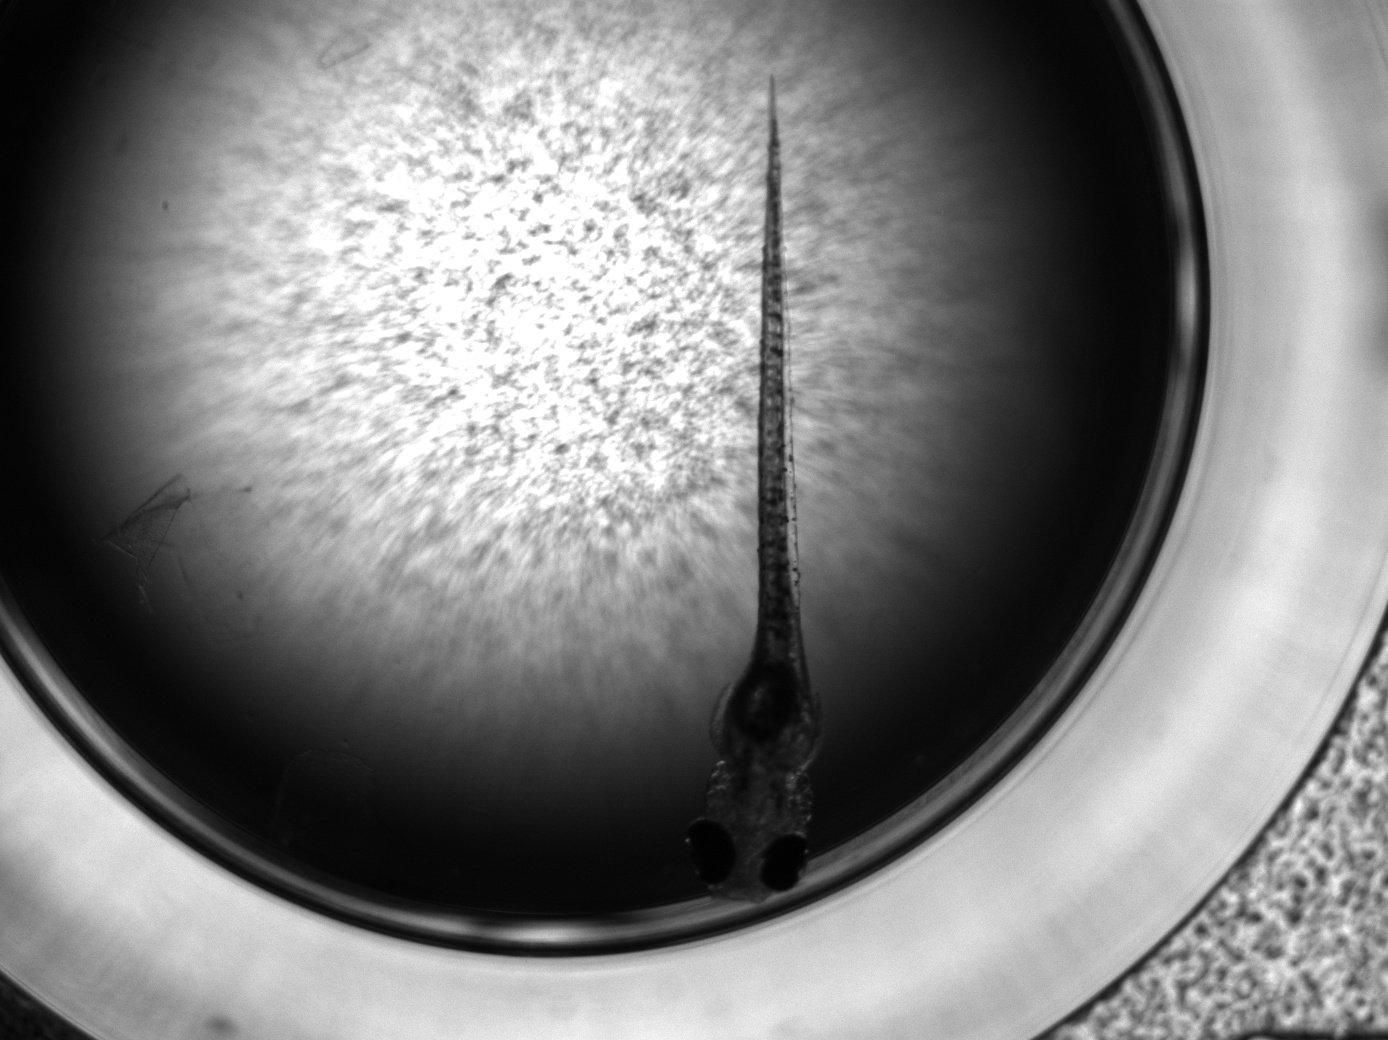embryo: (683, 72, 826, 906)
eye: (683, 819, 735, 888), (759, 834, 811, 893)
yolksac: (715, 608, 827, 778)
